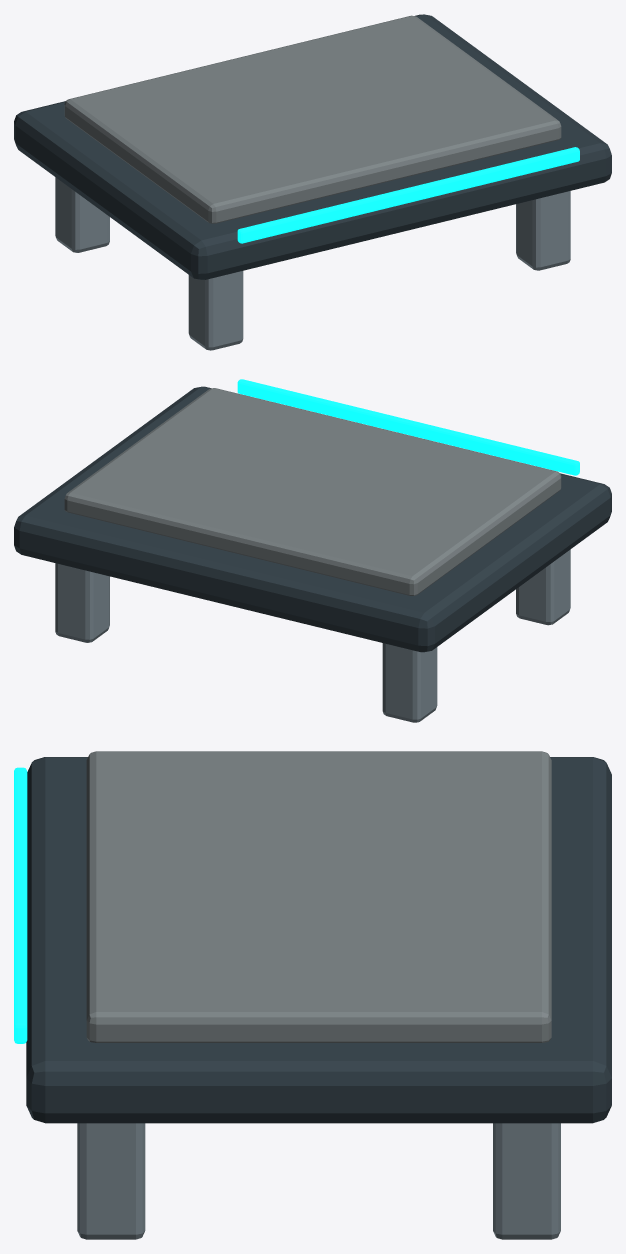
Rendered from Platform-Module.glb.
The picture shows the model from 3 angles, top to bottom: view 1: azimuth 30°, elevation 25°; view 2: azimuth 150°, elevation 25°; view 3: azimuth 270°, elevation 25°; orthographic projection. The views are drawn at different scales.
Visible parts, largest first — view 1: Platform_StoneInset, Platform_Deck, Platform_CyanEdge, Platform_Support, Platform_Support.002, Platform_Support.001; view 2: Platform_StoneInset, Platform_Deck, Platform_CyanEdge, Platform_Support.001, Platform_Support.003, Platform_Support; view 3: Platform_StoneInset, Platform_Deck, Platform_Support.002, Platform_Support.003, Platform_CyanEdge.
Boxes of the visible parts, x1=… form: Platform_StoneInset: x1=64, y1=15, x2=561, y2=223; Platform_Deck: x1=14, y1=14, x2=611, y2=279; Platform_CyanEdge: x1=237, y1=147, x2=579, y2=243; Platform_Support: x1=188, y1=271, x2=243, y2=350; Platform_Support.002: x1=516, y1=191, x2=570, y2=270; Platform_Support.001: x1=55, y1=177, x2=109, y2=252; Platform_StoneInset: x1=64, y1=388, x2=561, y2=595; Platform_Deck: x1=14, y1=386, x2=611, y2=652; Platform_CyanEdge: x1=237, y1=379, x2=579, y2=475; Platform_Support.001: x1=382, y1=643, x2=437, y2=722; Platform_Support.003: x1=55, y1=563, x2=109, y2=642; Platform_Support: x1=516, y1=549, x2=570, y2=625; Platform_StoneInset: x1=86, y1=751, x2=551, y2=1042; Platform_Deck: x1=26, y1=757, x2=611, y2=1123; Platform_Support.002: x1=77, y1=1123, x2=145, y2=1239; Platform_Support.003: x1=493, y1=1123, x2=560, y2=1239; Platform_CyanEdge: x1=14, y1=767, x2=27, y2=1043.
Size of the model in its own units: 2 by 0.65 by 1.58.
